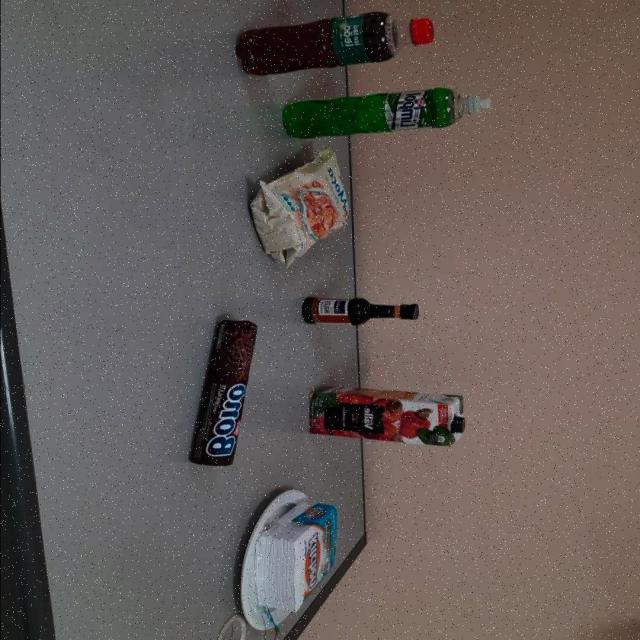Cleaner: (278, 88, 489, 140)
Cookies: (187, 317, 256, 467)
CornFlakes: (246, 152, 348, 266)
EnglishSauce: (299, 296, 421, 324)
IceTea: (232, 12, 433, 74)
